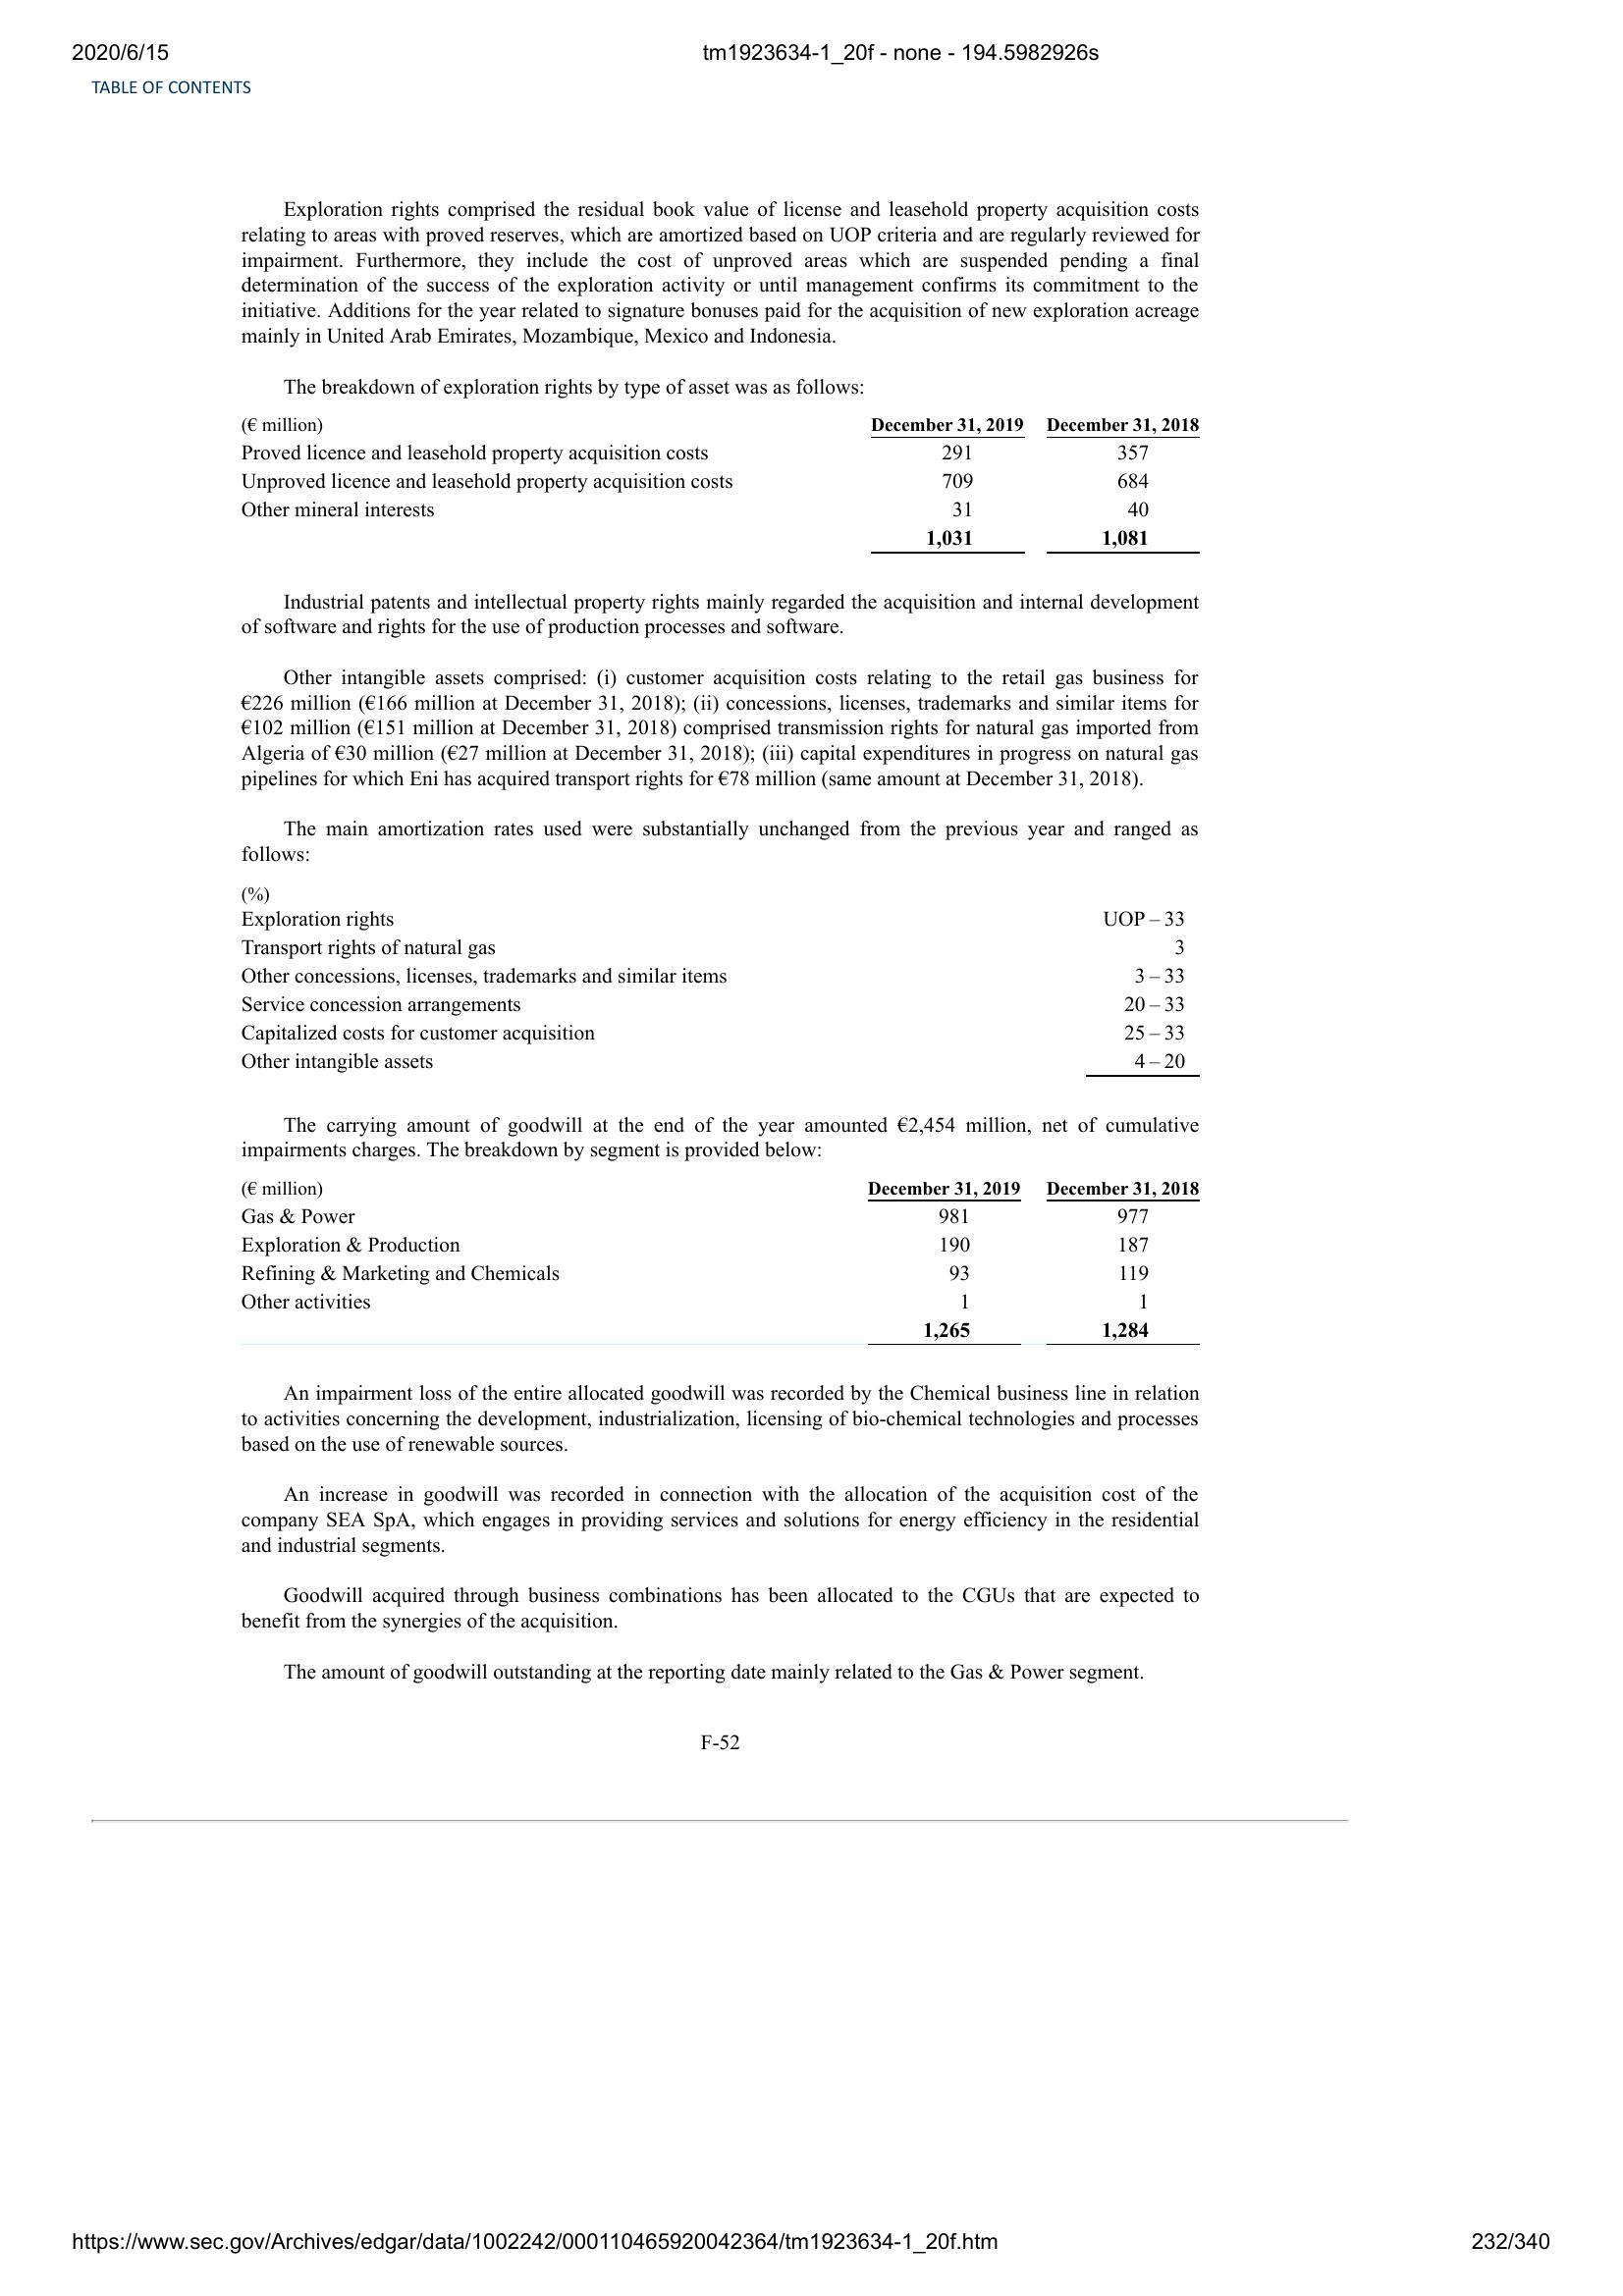table: (220, 883, 1200, 1085), (230, 1173, 1200, 1345), (242, 409, 1205, 565)
